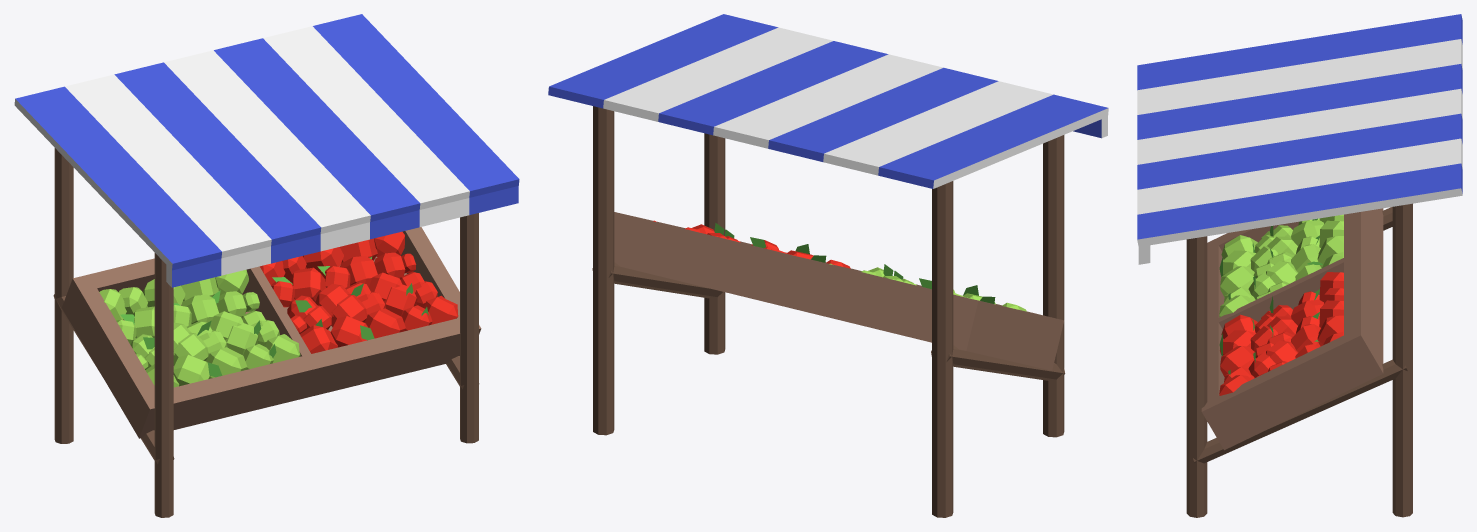
File: bazaar-item-02.obj
3 renders of one model, left to right at view 1: azimuth 30°, elevation 25°; view 2: azimuth 150°, elevation 25°; view 3: azimuth 270°, elevation 25°, orthographic. The views are drawn at different scales.
Visible parts, largest first — view 1: bazaar-item-02; view 2: bazaar-item-02; view 3: bazaar-item-02.
Part boxes in pixels (x1,y1,x2,y2): bazaar-item-02: (14, 14, 519, 517); bazaar-item-02: (548, 14, 1108, 517); bazaar-item-02: (1137, 14, 1462, 517).
Size of the model in its own units: 1.66 by 1.49 by 1.31.
